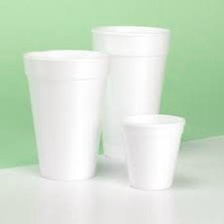paper_cup: (18, 44, 112, 185), (87, 22, 175, 167), (117, 110, 189, 195)
